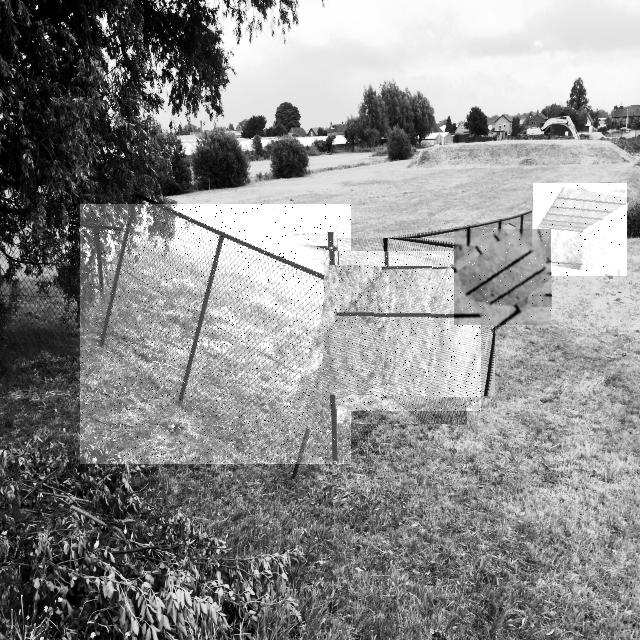fences: (80, 204, 351, 464), (323, 251, 481, 411), (454, 229, 551, 325), (533, 183, 627, 276)
